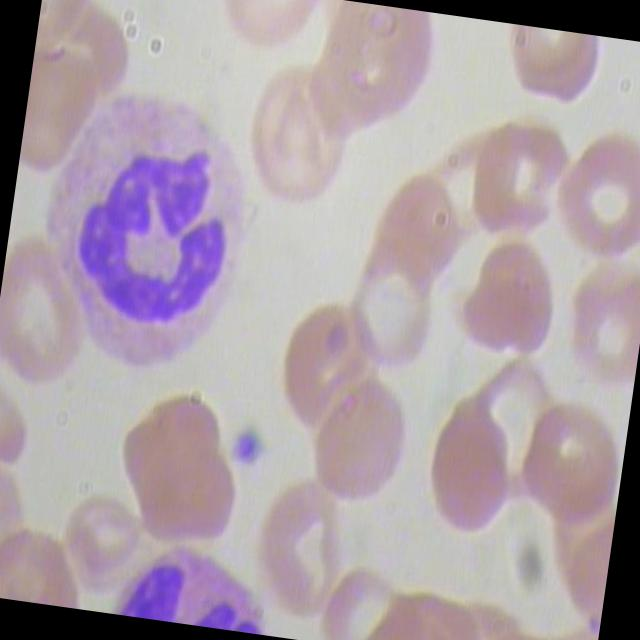Platelets: (222, 419, 270, 474)
RBC: (104, 379, 250, 559), (226, 51, 360, 219), (234, 470, 356, 628), (274, 294, 394, 444), (0, 233, 106, 399), (457, 108, 576, 251), (511, 402, 628, 541), (540, 119, 640, 274), (458, 232, 568, 370), (415, 406, 521, 541), (306, 378, 416, 508), (550, 260, 640, 402), (496, 24, 606, 115), (60, 492, 152, 598)
WBC: (8, 70, 271, 384)
